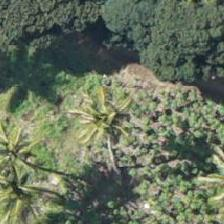coconut_tree: (59, 71, 149, 161), (0, 109, 55, 199), (0, 156, 61, 223)
